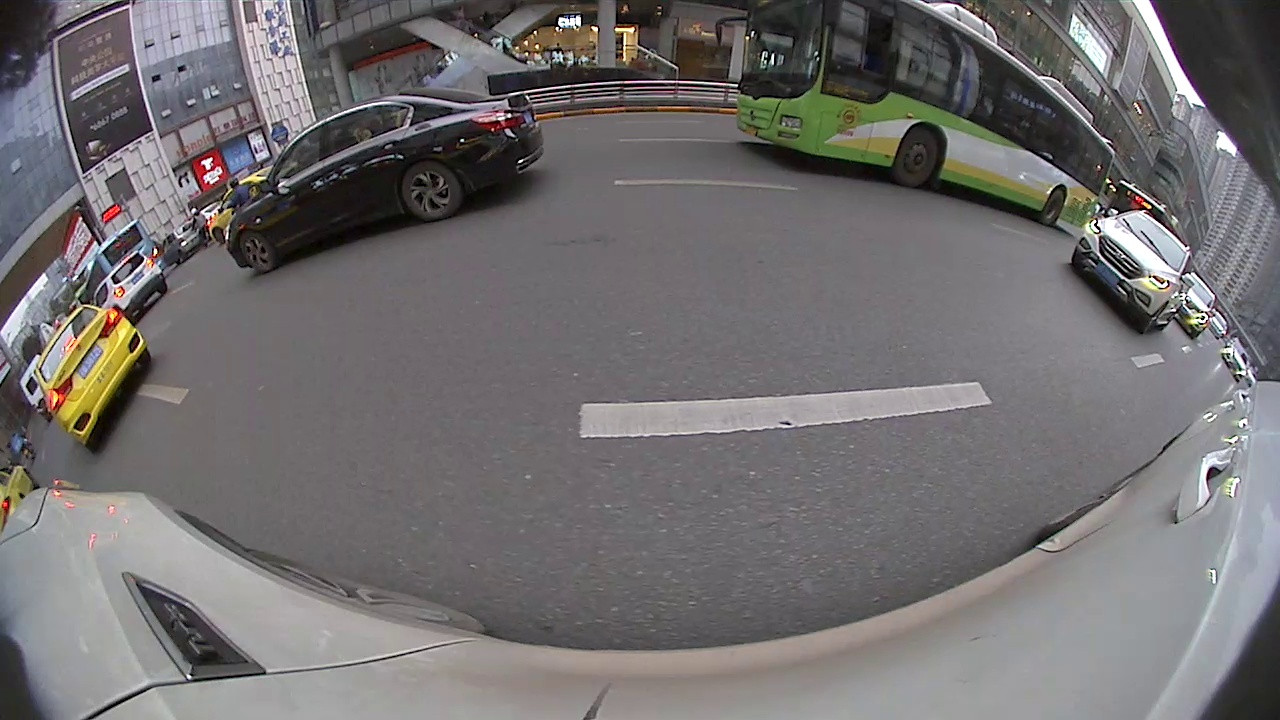bus: (727, 2, 1119, 236), (77, 218, 168, 312)
car: (226, 86, 542, 276), (34, 301, 149, 451), (1069, 206, 1189, 338), (99, 251, 168, 324), (1164, 270, 1217, 340)
front: (892, 127, 941, 187), (237, 231, 276, 276)
rear: (400, 161, 462, 222), (1037, 187, 1065, 226)
